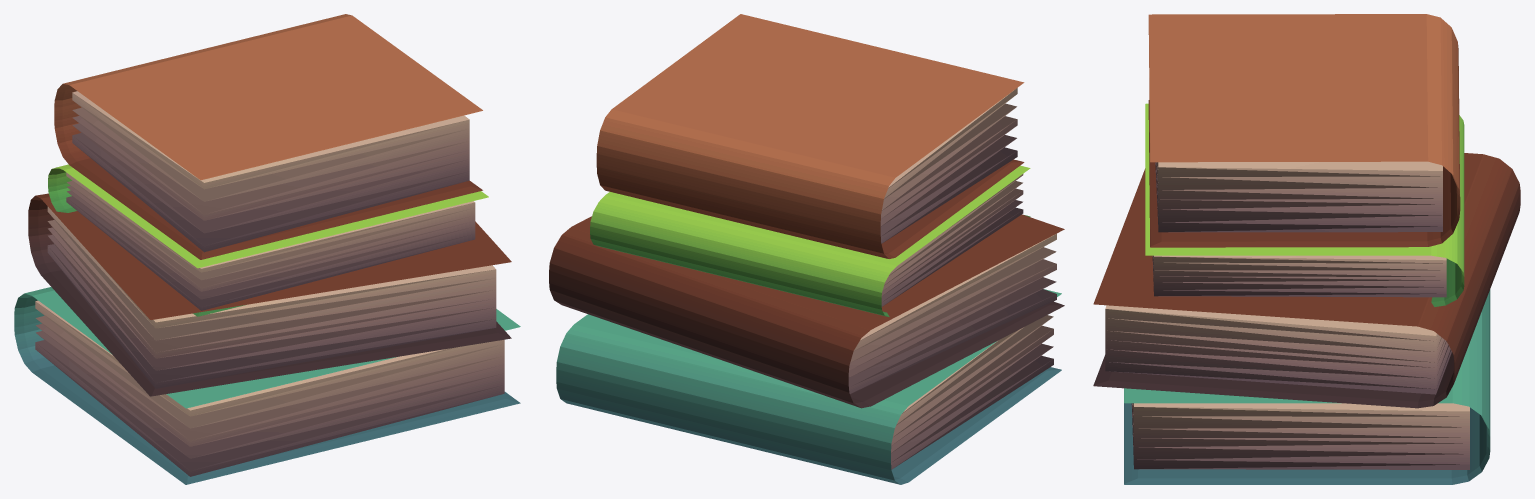
File: game_books_pile.fbx
3 renders of one model, left to right at view 1: azimuth 30°, elevation 25°; view 2: azimuth 150°, elevation 25°; view 3: azimuth 270°, elevation 25°, orthographic. The views are drawn at different scales.
Parts seen in each view (by area): view 1: Plane; view 2: Plane; view 3: Plane.
Part boxes in pixels (bbox=[...]): Plane: bbox=[14, 14, 520, 484]; Plane: bbox=[549, 14, 1064, 484]; Plane: bbox=[1093, 14, 1520, 484].
Size of the model in its own units: 3.25 by 2.38 by 2.98.
